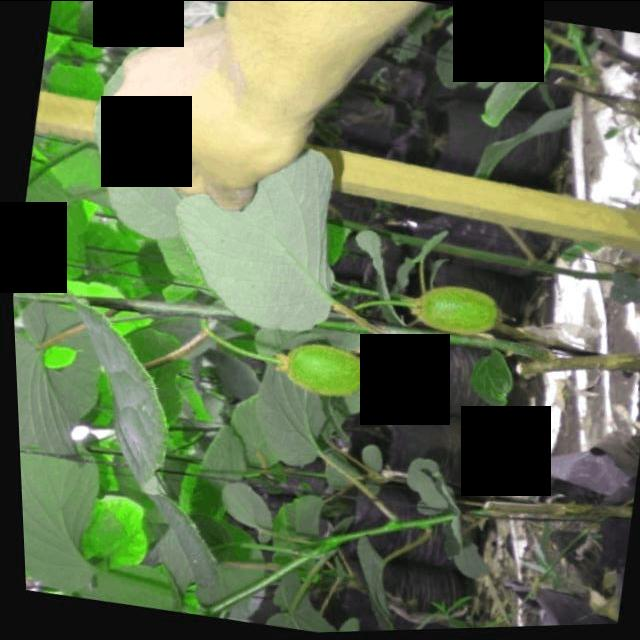kiwi: (277, 338, 372, 403), (408, 280, 497, 341)
